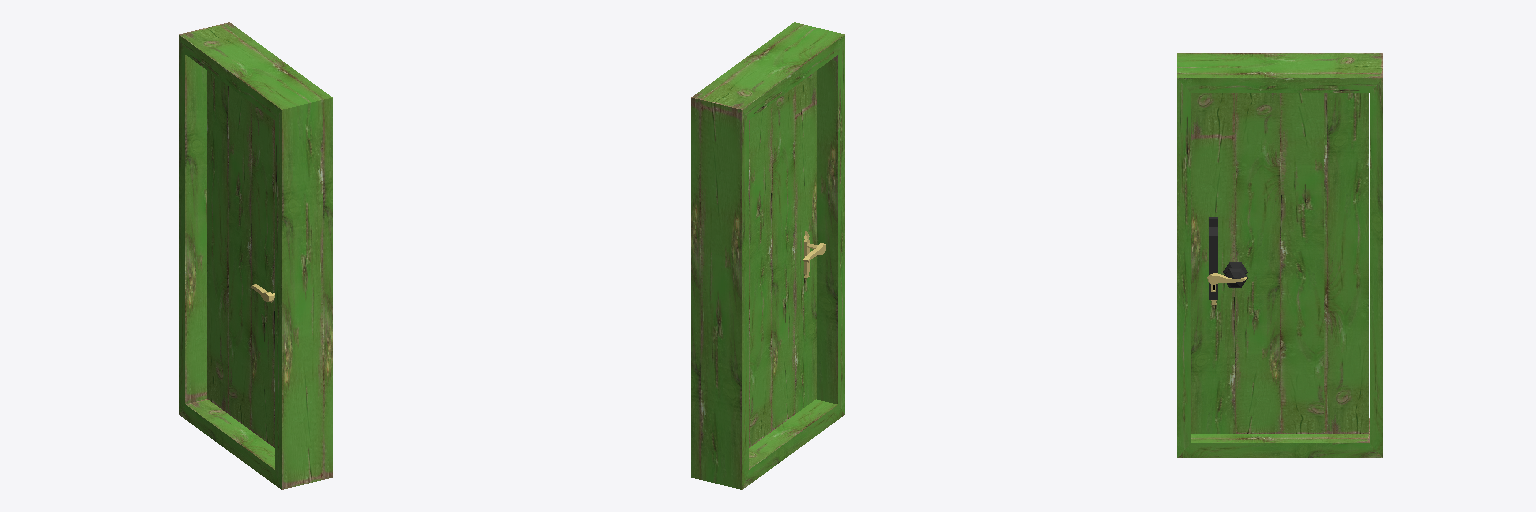
3 views of the same model, side by side, from view 1: azimuth 30°, elevation 25°; view 2: azimuth 150°, elevation 25°; view 3: azimuth 270°, elevation 25° (orthographic).
Visible parts, largest first — view 1: Rectangle06, Box03; view 2: Rectangle06, Box03; view 3: Box03, Rectangle06, Line05.
Part boxes in pixels (x1,y1,x2,y2): Rectangle06: (179,22,332,489); Box03: (207,71,274,447); Rectangle06: (691,22,844,489); Box03: (749,71,816,447); Box03: (1191,93,1368,433); Rectangle06: (1177,53,1382,457); Line05: (1209,217,1217,299).
Bounding box in the file's own units: 0.3472 × 2.45 × 1.2.
4 materials, 1 textured.